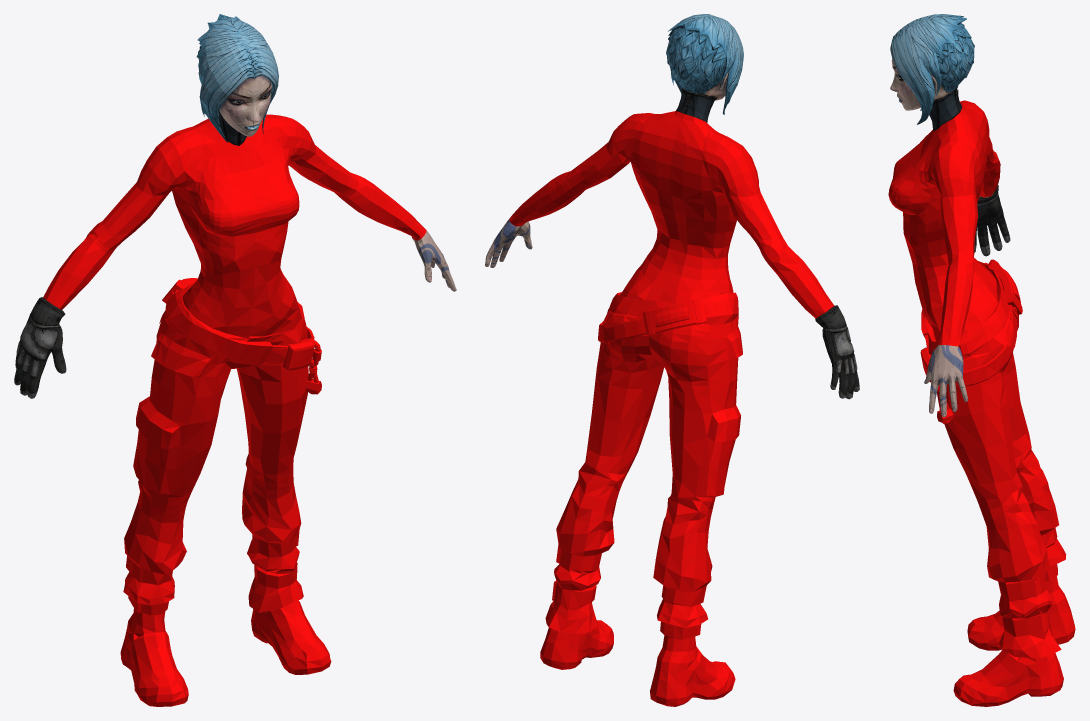
The model's file is maya-blender.obj.
The picture shows the model from 3 angles, left to right: view 1: azimuth 30°, elevation 25°; view 2: azimuth 150°, elevation 25°; view 3: azimuth 270°, elevation 25°; orthographic projection. The views are drawn at different scales.
Visible parts, largest first — view 1: Object.1; view 2: Object.1; view 3: Object.1.
Part boxes in pixels (box(x1,y1,x2,y2)): Object.1: box(14, 14, 456, 706); Object.1: box(485, 14, 859, 706); Object.1: box(888, 14, 1075, 706).
Size of the model in its own units: 49.66 by 79.78 by 20.97.
